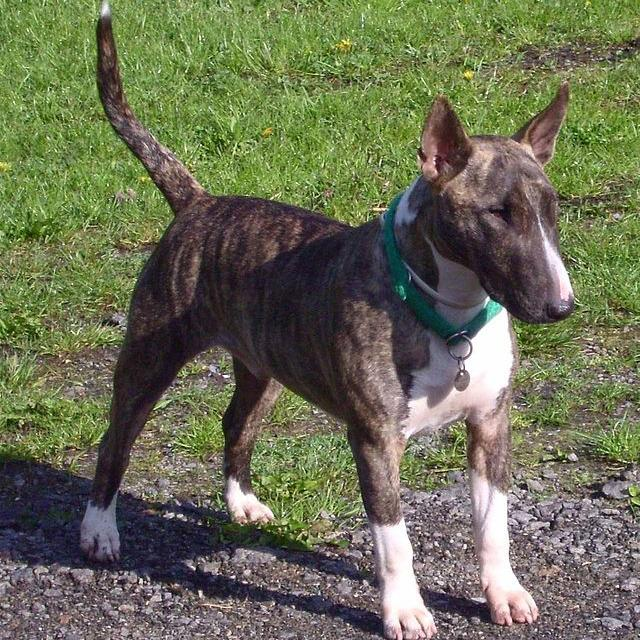bullterrier: (78, 3, 577, 640)
